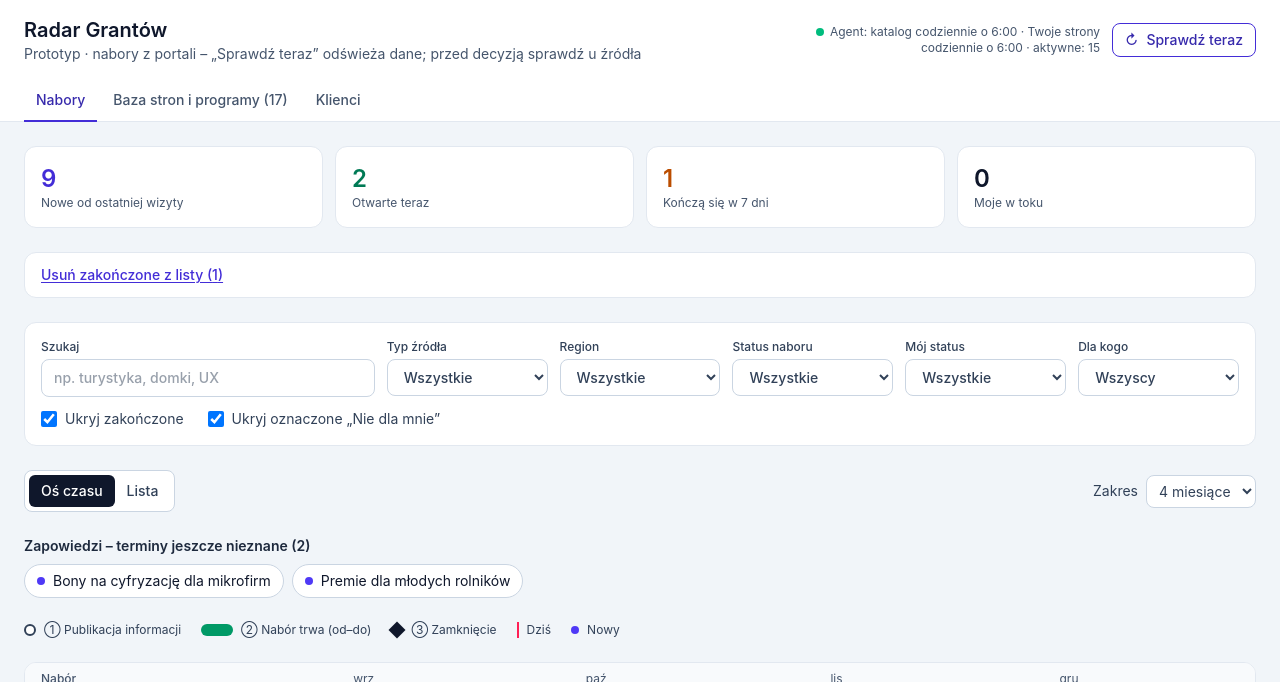
Baza stron › dodaje nową stronę do bazy
Click the tab "Baza stron i programy (17)": (200, 101) [101,80,300,122]
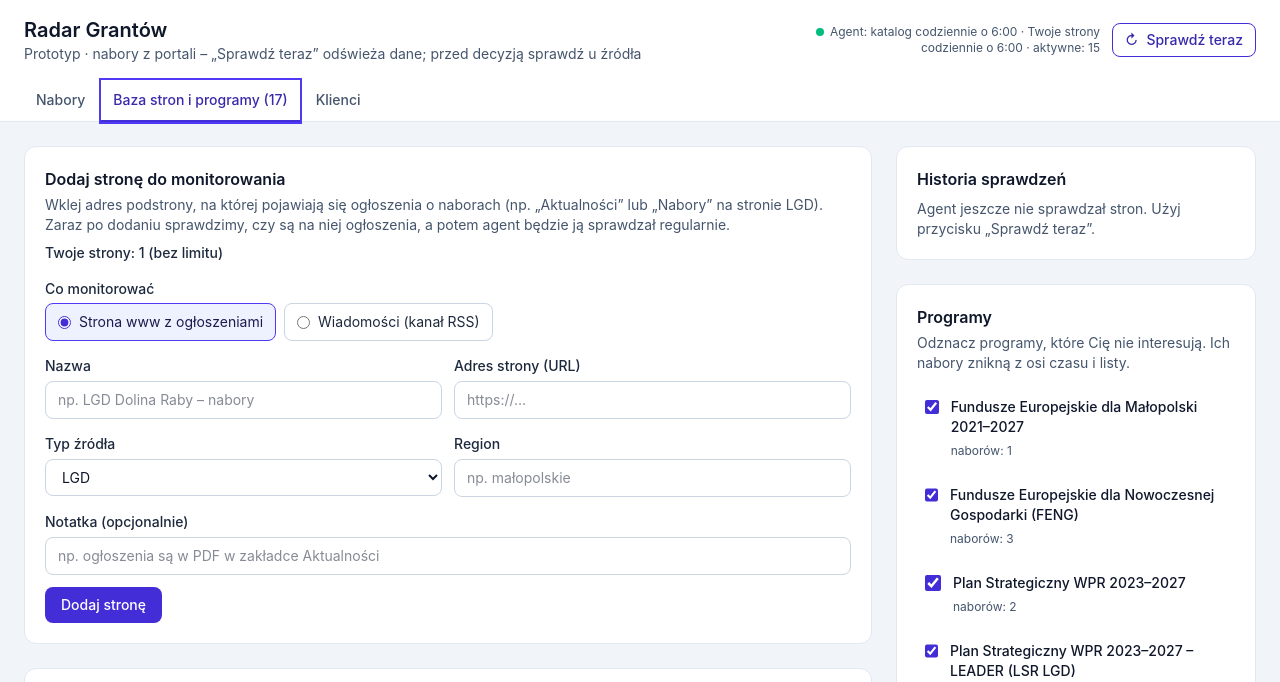
In the field labelled "Nazwa": (244, 400) [45,381,442,419], type "LGD Dolina Raby – nabory"
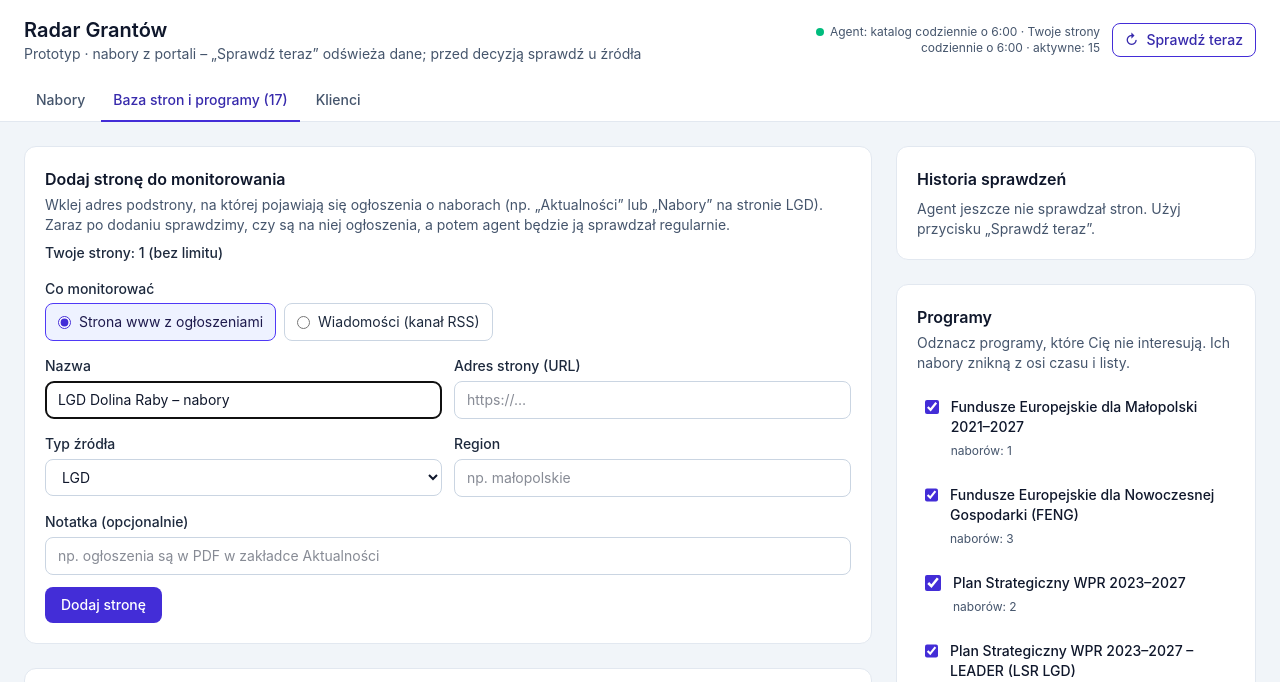
In the field labelled "Adres strony (URL)": (652, 400) [454,381,851,419], type "https://lgd-dolina-raby.example.pl/nabory"
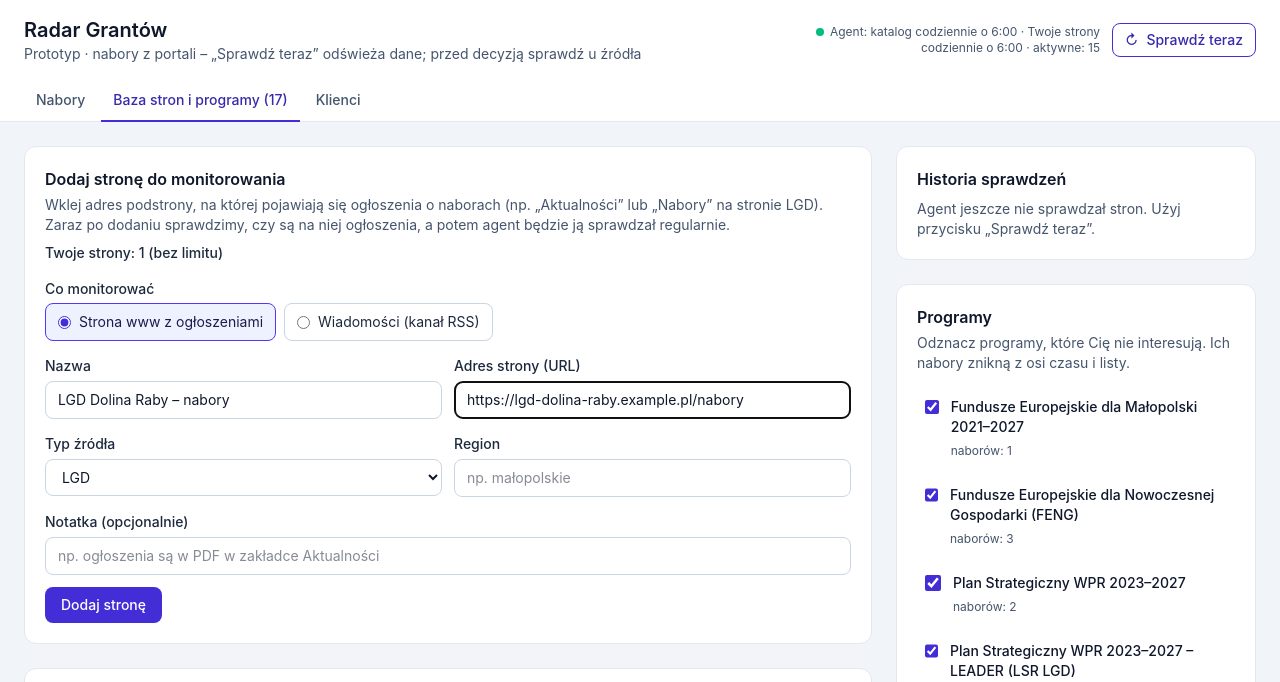
In the field labelled "Region": (652, 478) [454,459,851,497], type "małopolskie"
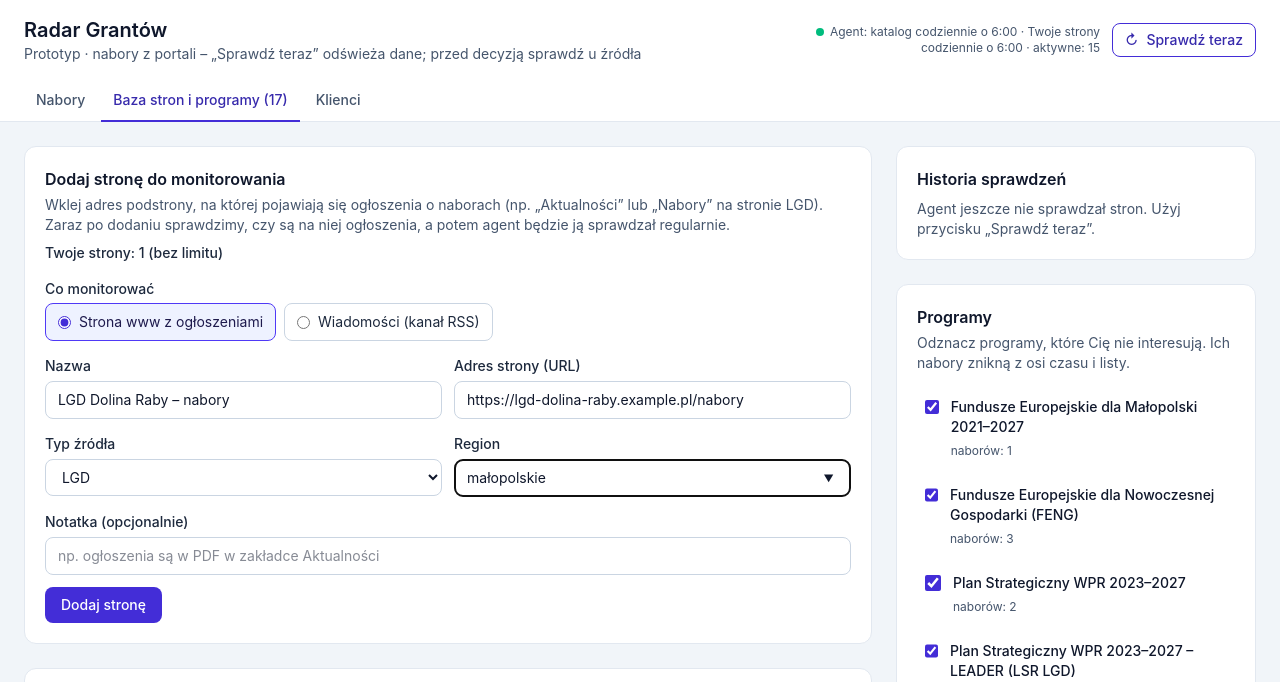
Click the button "Dodaj stronę": (104, 605) [45,587,162,623]
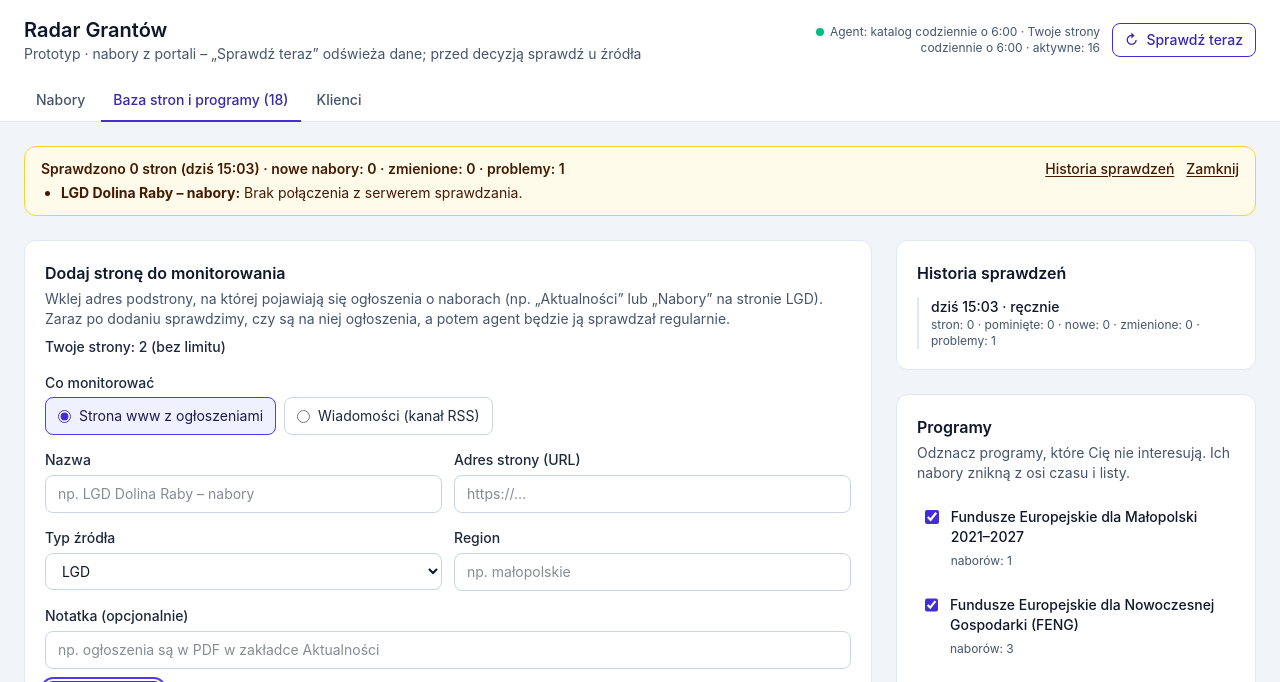
Now the tab "Baza stron i programy (18)" is shown, box [101,80,300,122]
